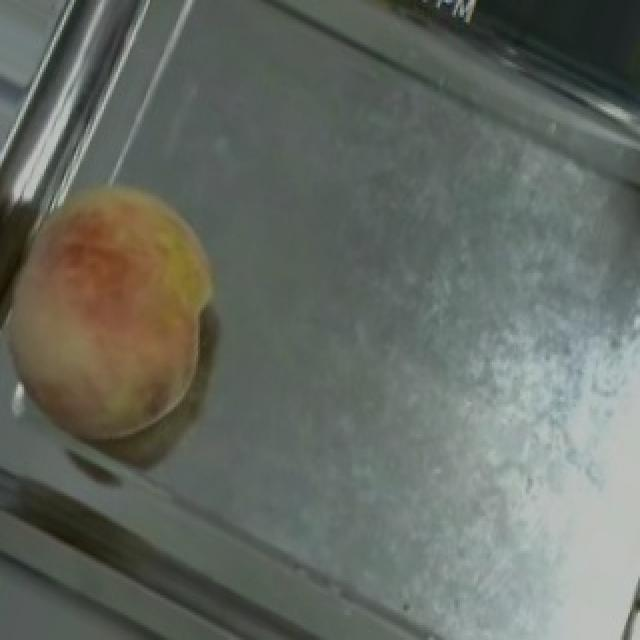Fruit: (0, 139, 268, 481)
